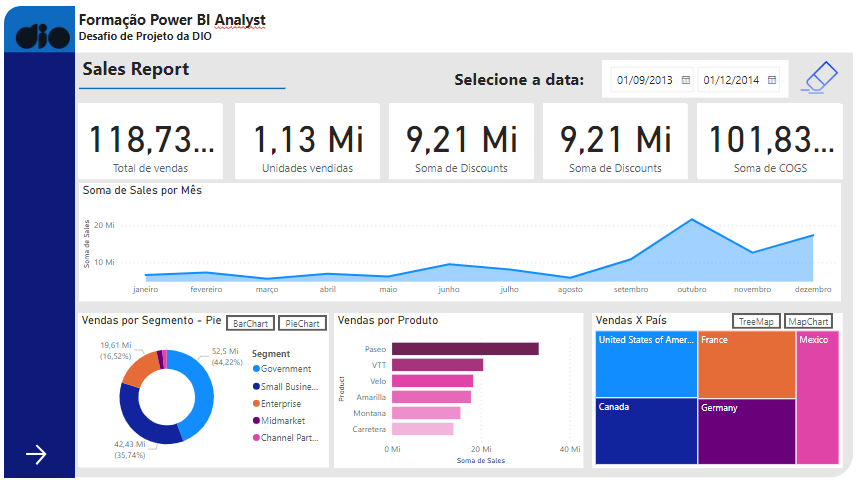

Layout of this report page (visuals, bound fields, positions):
{"tool":"powerbi","page":{"name":"Página 1","canvas":[1280,720],"ordinal":0},"visuals":[{"type":"shape","box":[26.9,20.2,1241.4,690.4],"z":0},{"type":"image","box":[1185,87.5,65,75],"z":0,"group":"g2"},{"type":"shape","box":[133.8,162.5,210.1,110],"z":0,"group":"g1"},{"type":"slicer","fields":{"Values":["financials.Date"]},"box":[900,99.2,273.3,55],"z":1000,"group":"g2"},{"type":"shape","box":[363.5,162.5,210.1,110],"z":1000,"group":"g1"},{"type":"donutChart","title":"Vendas por Segmento - Pie","fields":{"Y":["Sum(financials. Sales)"],"Category":["financials.Segment"]},"box":[133.3,470,366.7,225],"z":1000,"group":"g3"},{"type":"treemap","title":"Vendas X País","fields":{"Group":["financials.Country"],"Values":["Sum(financials. Sales)"]},"box":[885,470,366.7,226.7],"z":1000,"group":"g4"},{"type":"shape","box":[25,20,104,691],"z":2000},{"type":"textbox","box":[678.9,105,216.7,41.7],"z":2000,"group":"g2"},{"type":"shape","box":[589.6,162.5,210.1,110],"z":2000,"group":"g1"},{"type":"shape","box":[25,20,104,68],"z":3000},{"type":"shape","box":[813.9,162.5,210.1,110],"z":3000,"group":"g1"},{"type":"actionButton","title":"Botão Map","box":[1166.7,470,71.7,23.3],"z":3000,"group":"g4"},{"type":"actionButton","title":"Botão bar segment","box":[349.9,473.3,71.7,23.3],"z":3000,"group":"g3"},{"type":"image","box":[29,20,105,89],"z":4000},{"type":"shape","box":[1040,162.5,210.1,110],"z":4000,"group":"g1"},{"type":"actionButton","title":"Botão TreeMap","box":[1090,470,71.7,23.3],"z":4000,"group":"g4"},{"type":"actionButton","title":"Botão pie","box":[426.6,473.3,71.7,23.3],"z":4000,"group":"g3"},{"type":"group","id":"g1","title":"Cartoes","box":[133.8,162.5,1116.2,110],"z":5000},{"type":"shape","box":[134,115,302,51],"z":6000},{"type":"textbox","box":[134,88,212,53],"z":7000},{"type":"shape","box":[135,280,1115,173.3],"z":8000},{"type":"shape","box":[135,492.5,365,202.5],"z":9000},{"type":"shape","box":[885,470,365,225],"z":10000},{"type":"areaChart","fields":{"Category":["financials.Date.Variation.Hierarquia de datas.Mês"],"Y":["Sum(financials. Sales)"]},"box":[135,280,1115,173.3],"z":11000},{"type":"card","fields":{"Values":["Sum(financials. Sales)"]},"box":[133.3,163.3,211.7,110],"z":12000},{"type":"card","fields":{"Values":["Sum(financials.Units Sold)"]},"box":[363.3,163.3,211.7,110],"z":13000},{"type":"card","fields":{"Values":["Sum(financials.Discounts)"]},"box":[588.3,163.3,211.7,110],"z":14000},{"type":"card","fields":{"Values":["Sum(financials.COGS)"]},"box":[1040,163.3,211.7,110],"z":15000},{"type":"card","fields":{"Values":["Sum(financials.Discounts)"]},"box":[813.3,163.3,211.7,110],"z":16000},{"type":"clusteredBarChart","title":"Vendas por Produto","fields":{"Y":["Sum(financials. Sales)"],"Category":["financials.Product"]},"box":[508.3,470,365,226.7],"z":17000},{"type":"group","id":"g2","title":"Grupo 1","box":[678.9,87.5,571.1,75],"z":18000},{"type":"group","id":"g3","title":"SalesXSegment","box":[133.3,470,366.7,226.7],"z":19000},{"type":"group","id":"g4","title":"Vendas por pais","box":[885,470,366.7,226.7],"z":19500},{"type":"actionButton","box":[51.7,656.7,48.3,40],"z":19750},{"type":"textbox","box":[129,20,1139,68],"z":20000}]}

Visuals, with their boxes in screenshot pixels (x1, y1, x2, y2), scaled from the page's 1280x720 canvas onto the 859x481 screenshot:
shape: box(18, 13, 851, 475)
image: box(795, 58, 839, 109)
shape: box(90, 109, 231, 182)
slicer - financials.Date: box(604, 66, 787, 103)
shape: box(244, 109, 385, 182)
"Vendas por Segmento - Pie" donutChart: box(89, 314, 336, 464)
"Vendas X País" treemap: box(594, 314, 840, 465)
shape: box(17, 13, 87, 475)
textbox: box(456, 70, 601, 98)
shape: box(396, 109, 537, 182)
shape: box(17, 13, 87, 59)
shape: box(546, 109, 687, 182)
"Botão Map" actionButton: box(783, 314, 831, 330)
"Botão bar segment" actionButton: box(235, 316, 283, 332)
image: box(19, 13, 90, 73)
shape: box(698, 109, 839, 182)
"Botão TreeMap" actionButton: box(731, 314, 780, 330)
"Botão pie" actionButton: box(286, 316, 334, 332)
"Cartoes" group: box(90, 109, 839, 182)
shape: box(90, 77, 293, 111)
textbox: box(90, 59, 232, 94)
shape: box(91, 187, 839, 303)
shape: box(91, 329, 336, 464)
shape: box(594, 314, 839, 464)
areaChart - financials.Date.Variation.Hierarquia de datas.Mês x Sum(financials. Sales): box(91, 187, 839, 303)
card - Sum(financials. Sales): box(89, 109, 232, 183)
card - Sum(financials.Units Sold): box(244, 109, 386, 183)
card - Sum(financials.Discounts): box(395, 109, 537, 183)
card - Sum(financials.COGS): box(698, 109, 840, 183)
card - Sum(financials.Discounts): box(546, 109, 688, 183)
"Vendas por Produto" clusteredBarChart: box(341, 314, 586, 465)
"Grupo 1" group: box(456, 58, 839, 109)
"SalesXSegment" group: box(89, 314, 336, 465)
"Vendas por pais" group: box(594, 314, 840, 465)
actionButton: box(35, 439, 67, 465)
textbox: box(87, 13, 851, 59)
